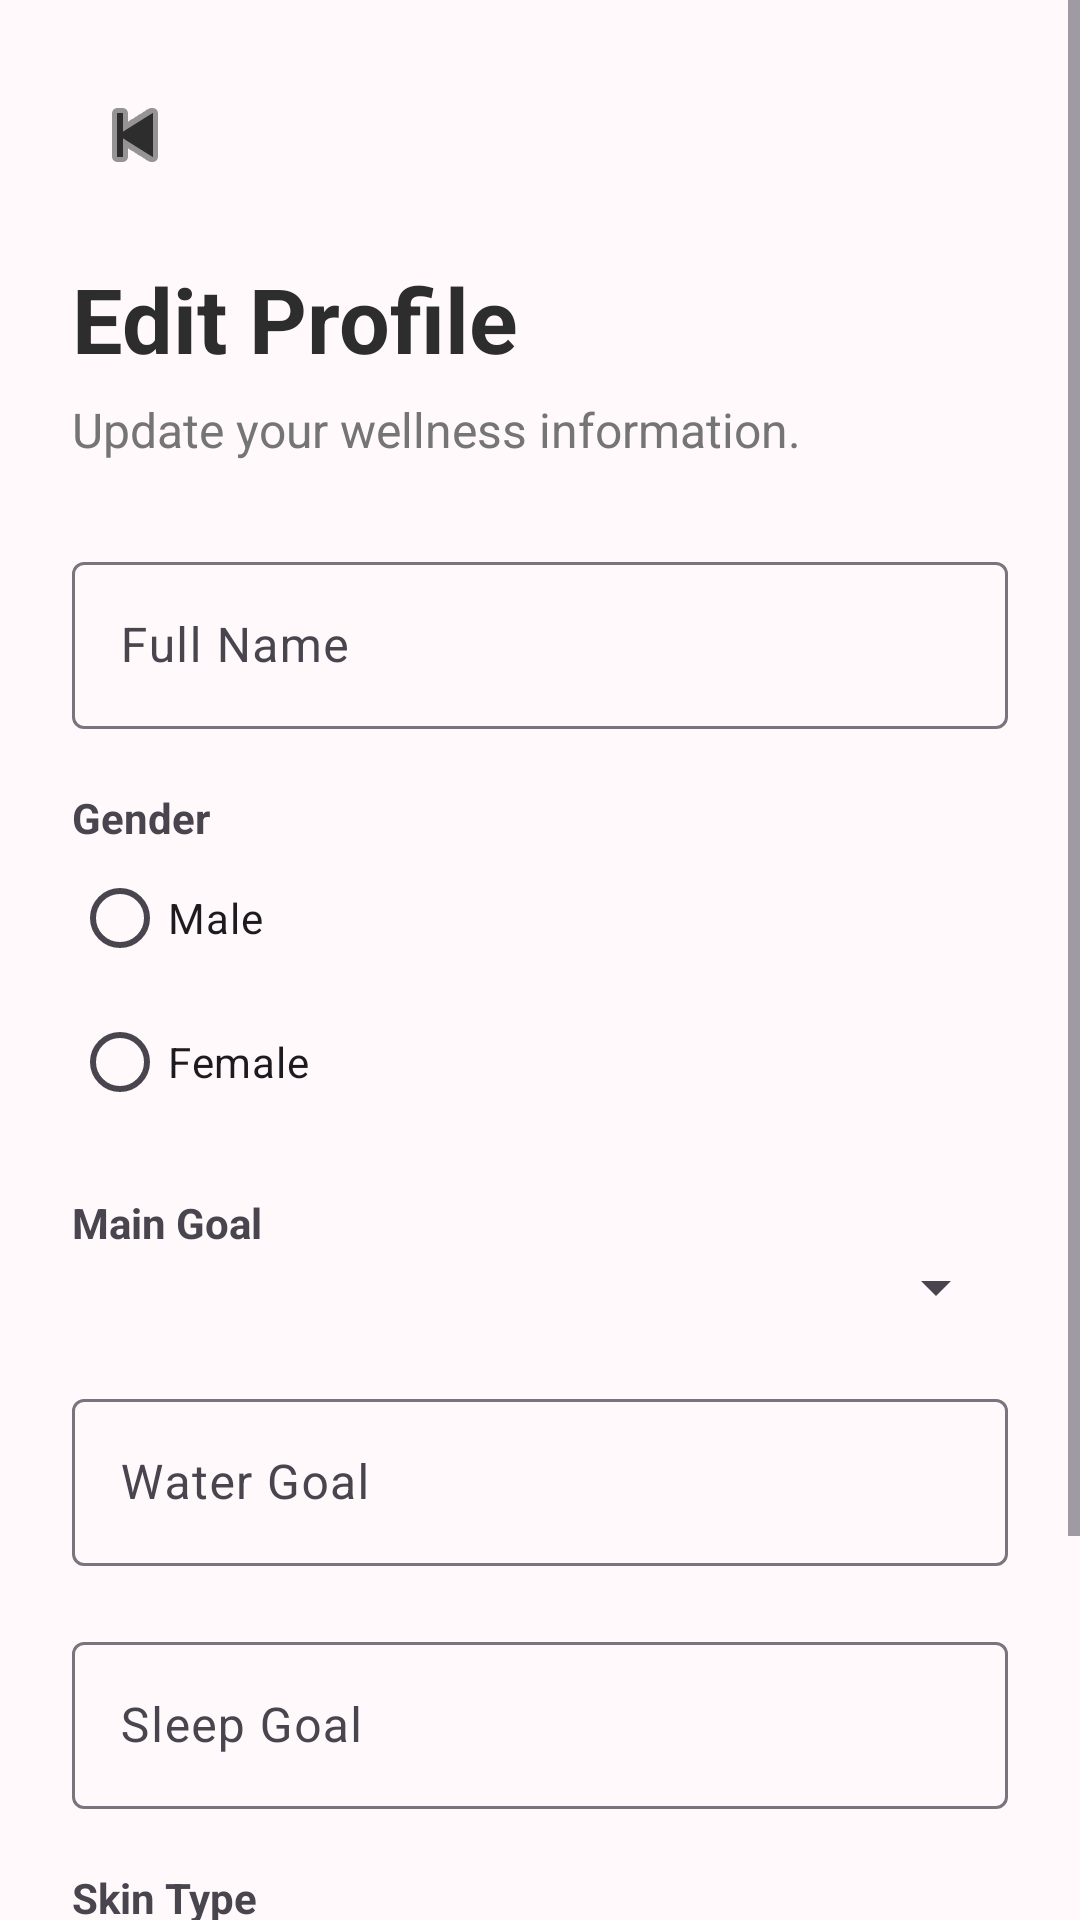

Point at icon controls on the screen. Image size 1080 × 1920, points as point (x, y).
previous: point (135, 135)
